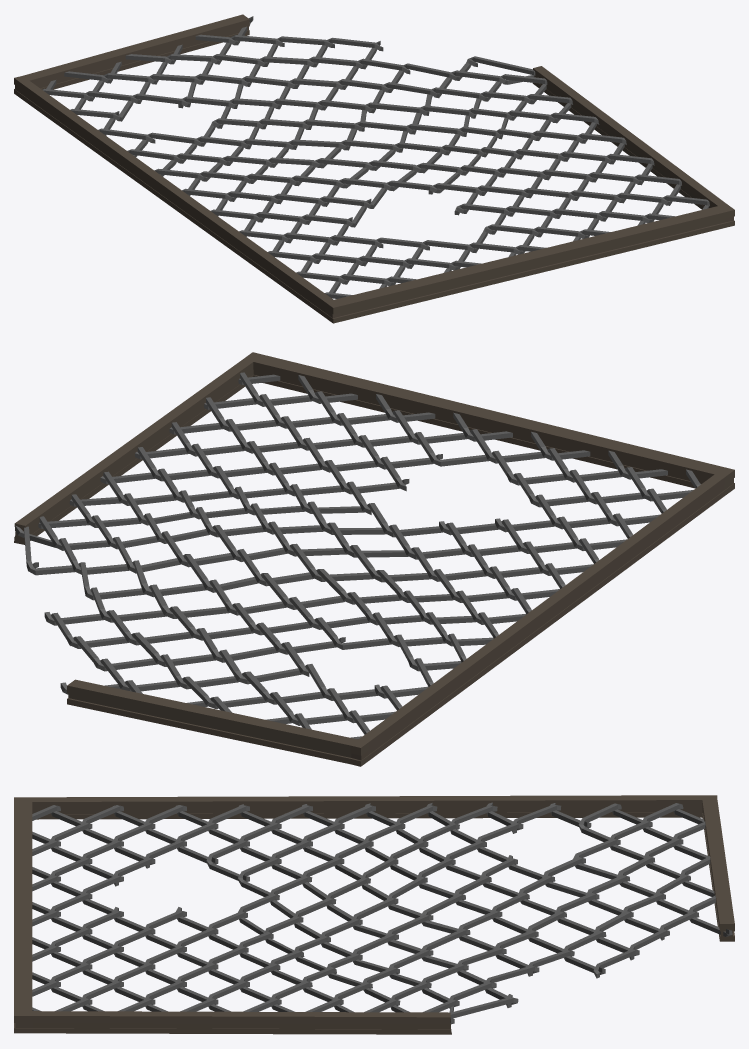
File: Fence_broken.fbx
The picture shows the model from 3 angles, top to bottom: view 1: azimuth 30°, elevation 25°; view 2: azimuth 150°, elevation 25°; view 3: azimuth 270°, elevation 25°; orthographic projection. The views are drawn at different scales.
Parts seen in each view (by area): view 1: 立方体.002; view 2: 立方体.002; view 3: 立方体.002.
Boxes of the visible parts, left/top/right/bottom form: 立方体.002: left=14, top=14, right=734, bottom=323; 立方体.002: left=14, top=352, right=734, bottom=766; 立方体.002: left=14, top=795, right=734, bottom=1034.
Bounding box in the file's own units: 1364 × 50.07 × 1872.
